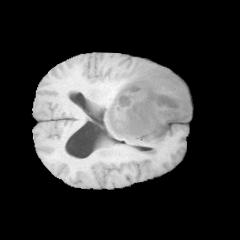glioma: (105, 61, 191, 147)
